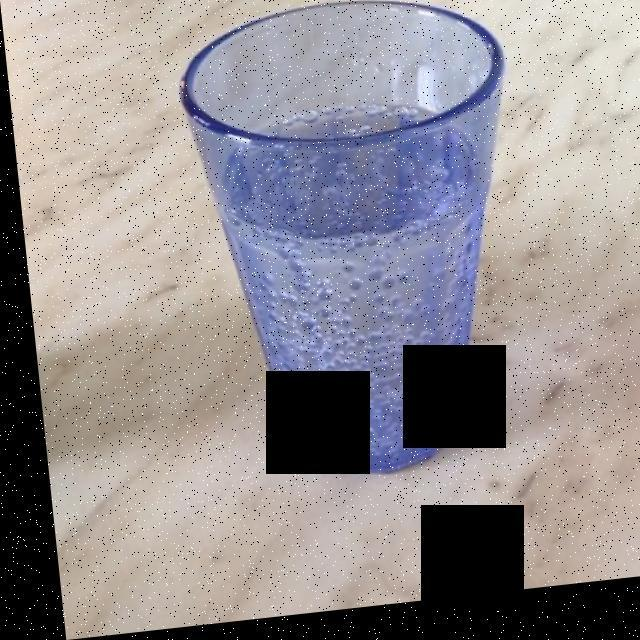water: (231, 120, 476, 469)
